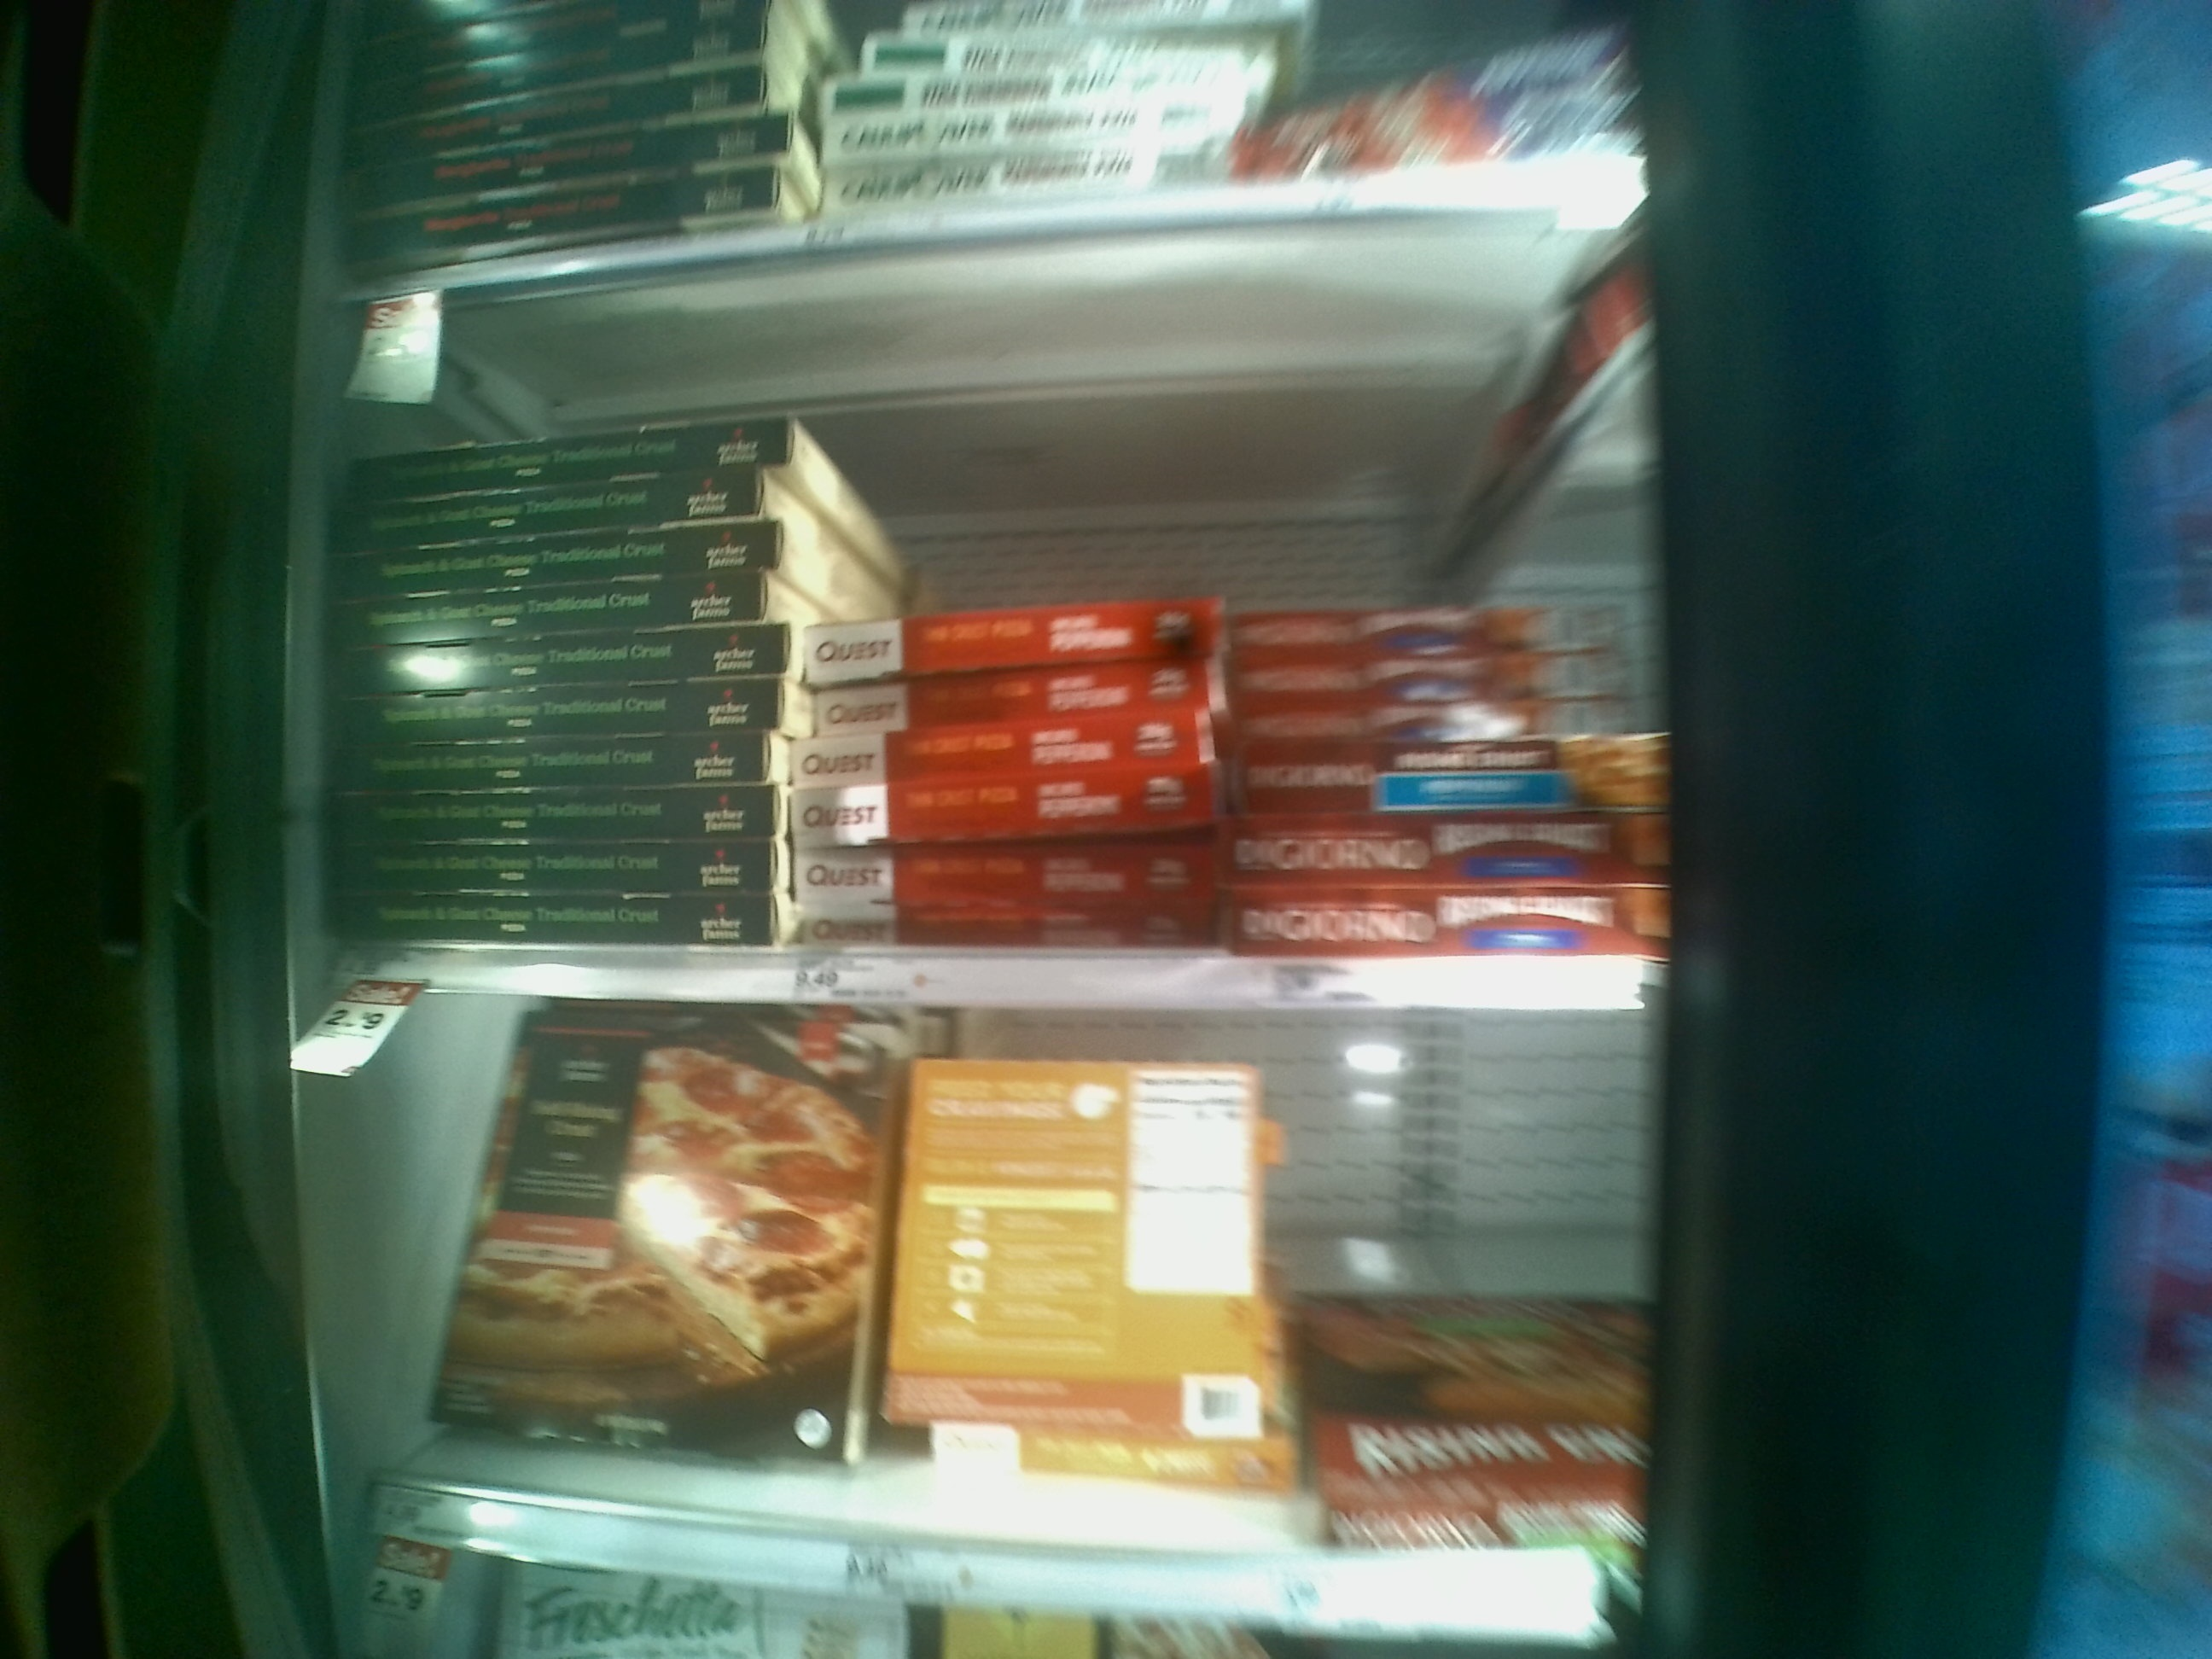shelf: (343, 305, 1663, 1011), (347, 986, 1648, 1642)
